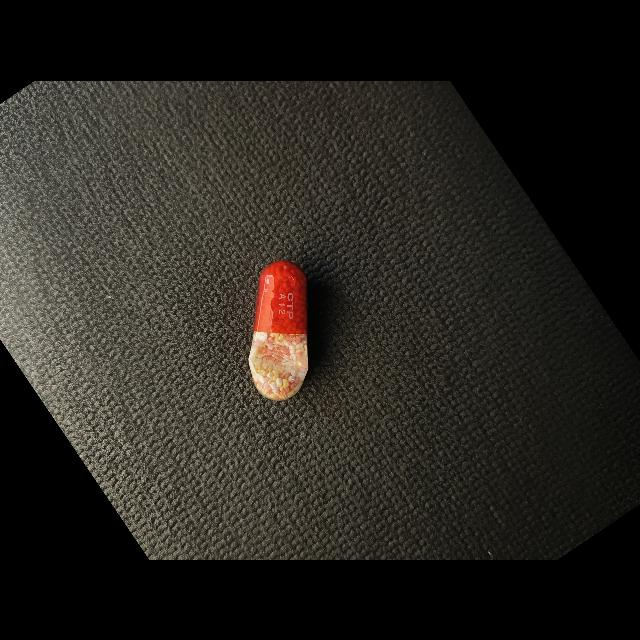Defective Capsule: (248, 260, 308, 400)
